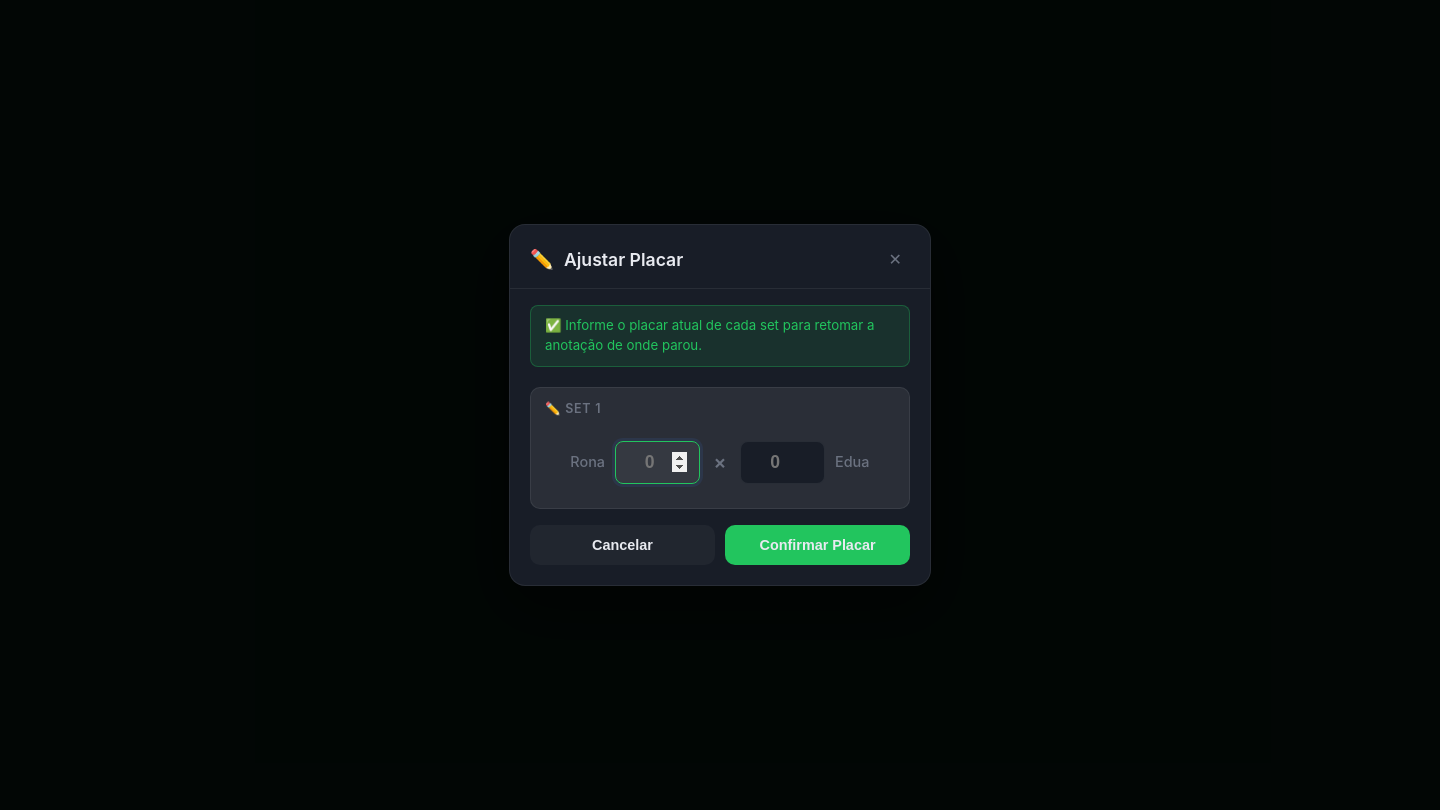
EditScoreModal - Dois Inputs Separados › should enable "Próximo Set" button only when both inputs are filled with valid score
Type "6" into the 1st number field with placeholder "0" at (657, 462), box [615, 441, 700, 484]
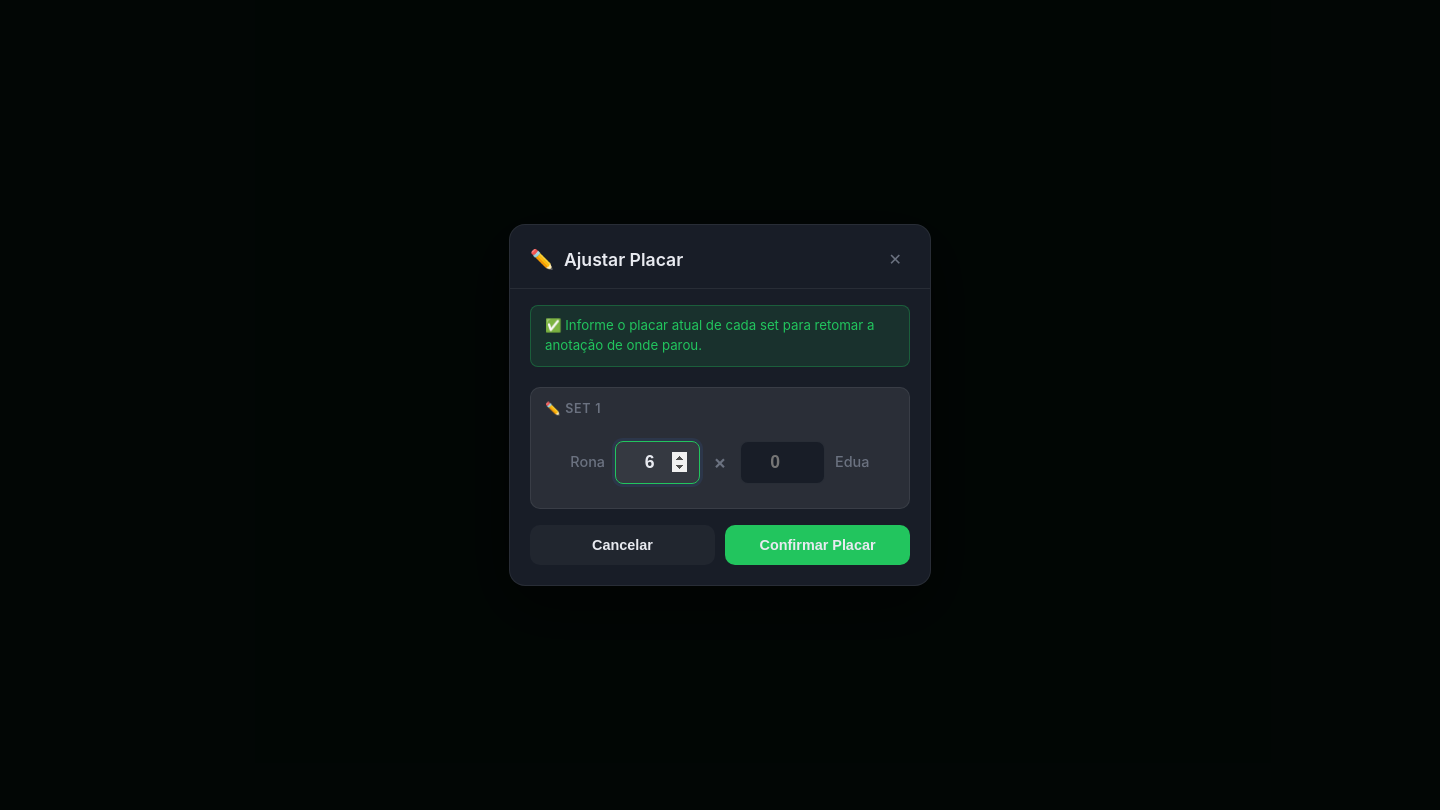
Type "4" into the number field with placeholder "0" at (783, 462), box [740, 441, 825, 484]
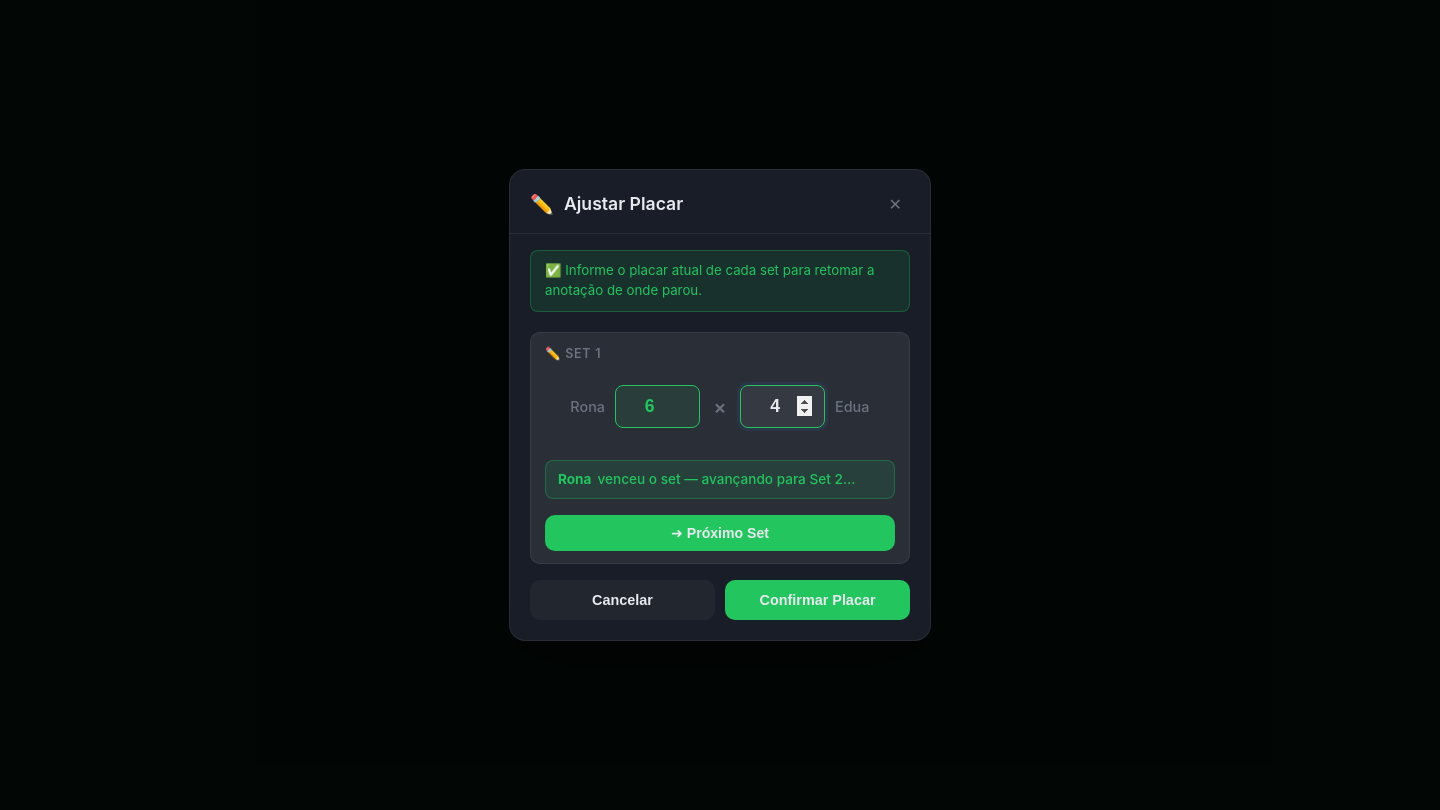
Now the button "➜ Próximo Set" is shown, box [545, 515, 895, 551]
